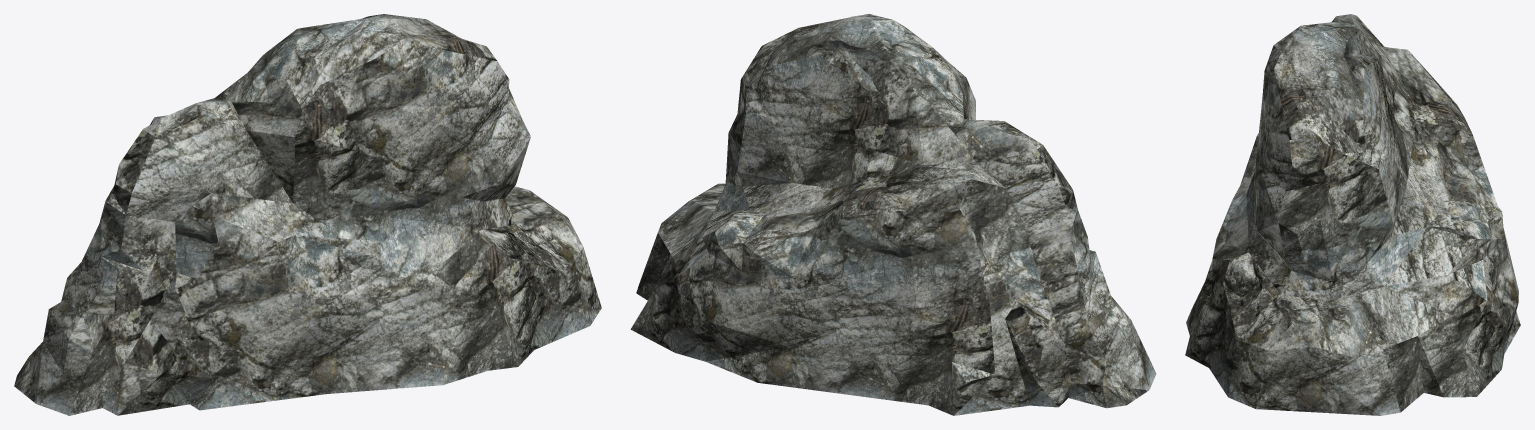
Rendered from DinoRockFace_01.DAE.
3 views of the same model, side by side, from view 1: azimuth 30°, elevation 25°; view 2: azimuth 150°, elevation 25°; view 3: azimuth 270°, elevation 25° (orthographic). The views are drawn at different scales.
Parts seen in each view (by area): view 1: DinoRockFaceONE300; view 2: DinoRockFaceONE300; view 3: DinoRockFaceONE300.
Part boxes in pixels (left/top/right/bottom): DinoRockFaceONE300: left=14, top=14, right=601, bottom=415; DinoRockFaceONE300: left=630, top=14, right=1156, bottom=415; DinoRockFaceONE300: left=1185, top=14, right=1520, bottom=415.
Size of what is drawn, in the model's own units: 148 by 88.28 by 83.58.
